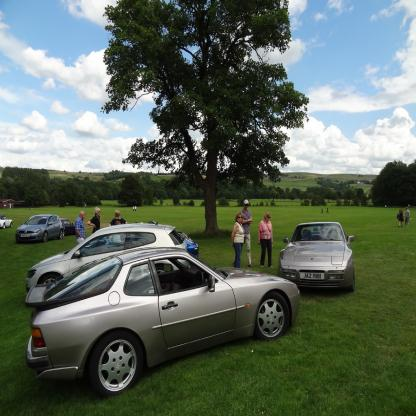Car: (27, 249, 302, 402), (27, 224, 201, 295), (279, 223, 356, 292), (17, 216, 65, 244), (62, 220, 76, 238), (1, 215, 14, 231)
